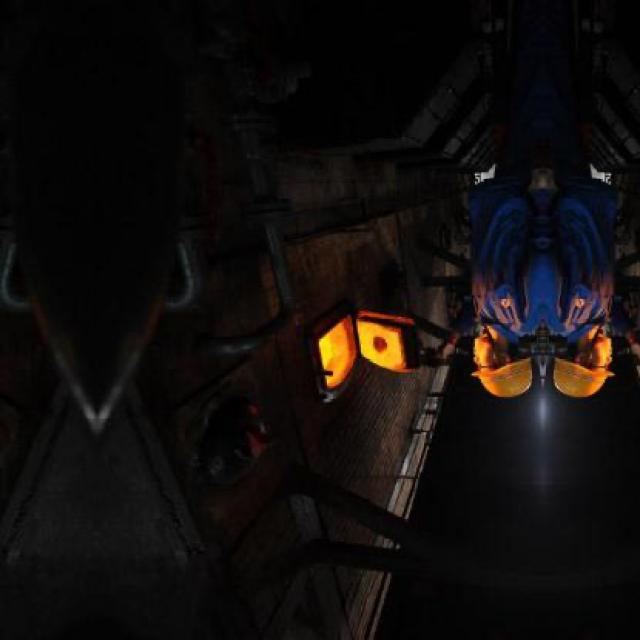con casco: (442, 321, 532, 403), (552, 312, 619, 405)
